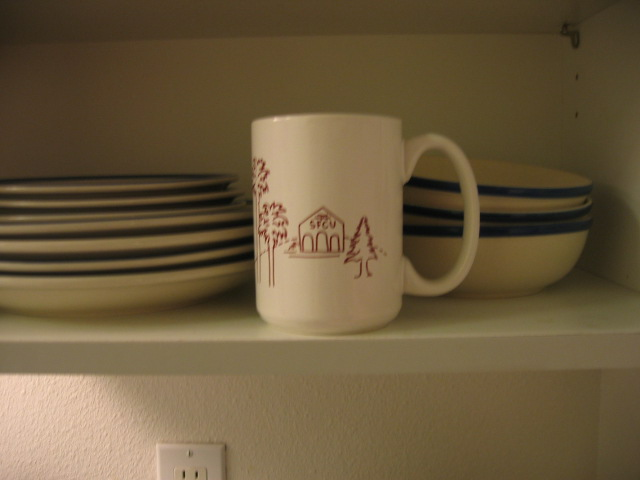mug: (246, 108, 480, 340)
